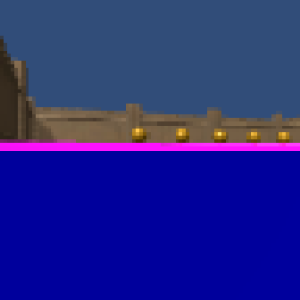goodGoalMulti: (129, 126, 148, 143), (173, 127, 190, 143), (212, 128, 230, 142), (276, 129, 291, 142), (246, 131, 262, 143)
platform: (1, 150, 300, 295)
ramp: (1, 140, 300, 151)
